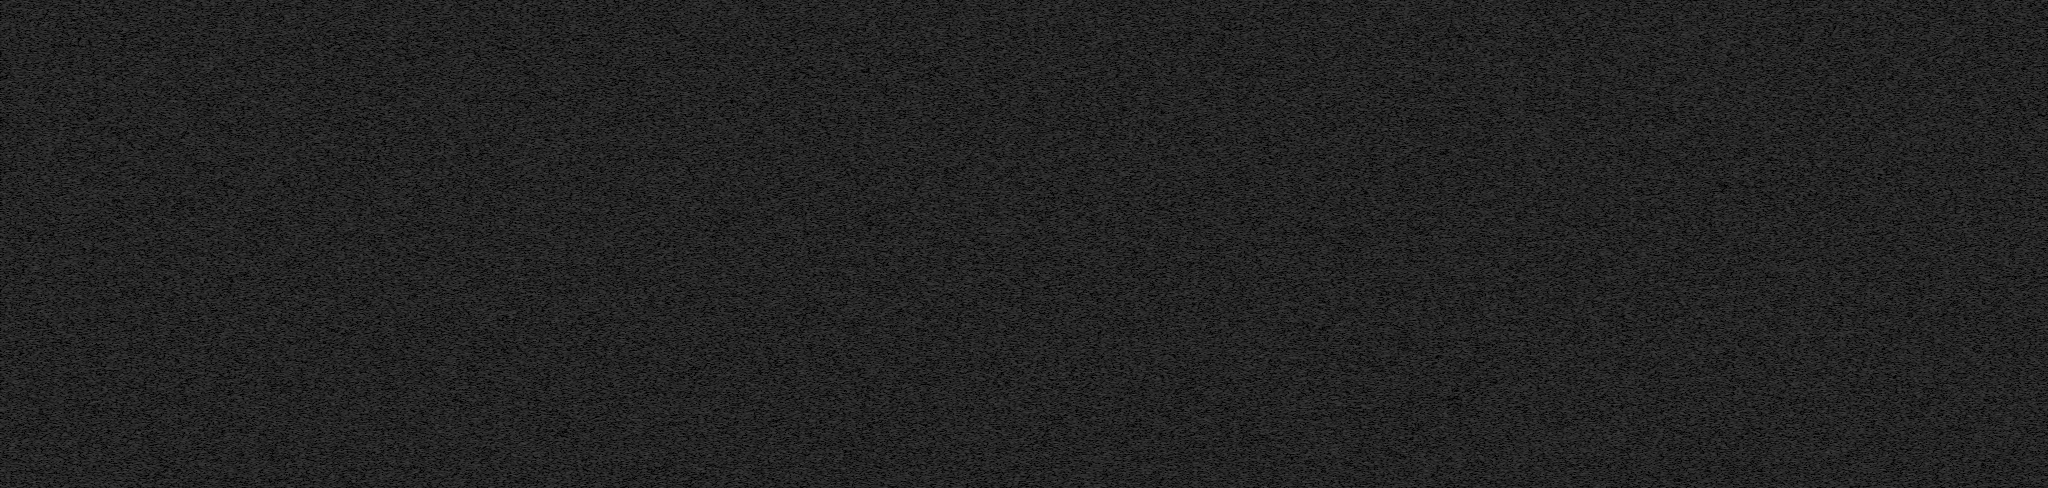wv_am: (818, 0, 824, 488), (620, 0, 626, 488), (274, 0, 280, 488)
wv_cw: (692, 0, 697, 488)
wv_lsb: (933, 404, 940, 488), (934, 399, 940, 403), (936, 331, 939, 335)
wv_usb: (728, 320, 737, 488), (728, 127, 737, 231), (728, 251, 737, 318), (108, 29, 118, 63), (108, 346, 114, 399), (728, 93, 735, 125), (728, 10, 733, 39), (108, 324, 115, 335), (728, 53, 733, 65), (108, 102, 114, 110), (729, 232, 733, 241), (729, 74, 733, 84), (729, 85, 734, 91), (108, 423, 112, 431), (728, 40, 733, 46), (108, 478, 112, 484), (108, 418, 114, 421), (108, 411, 112, 416), (108, 406, 114, 410), (108, 401, 114, 404), (728, 67, 731, 72), (108, 431, 112, 436), (108, 110, 112, 114), (108, 474, 112, 478), (108, 468, 112, 472), (108, 448, 112, 451), (108, 341, 114, 343), (111, 65, 116, 68), (108, 437, 114, 440), (729, 243, 731, 247), (728, 50, 731, 52)
